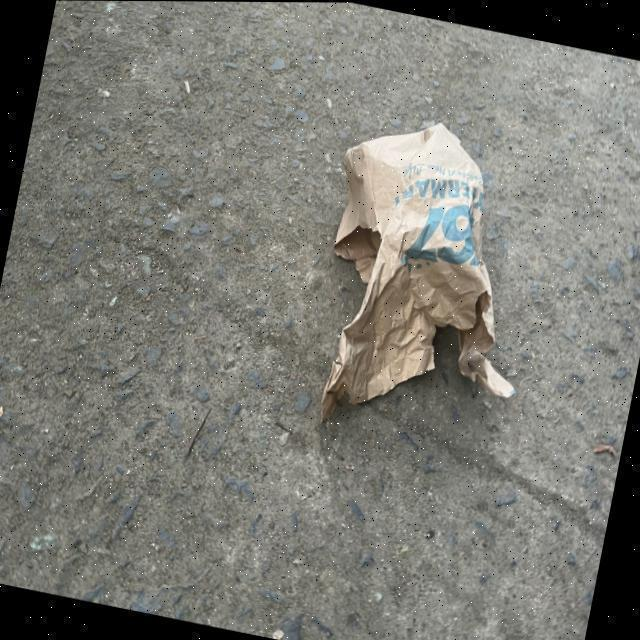Paper_Bag: (300, 101, 566, 462)
